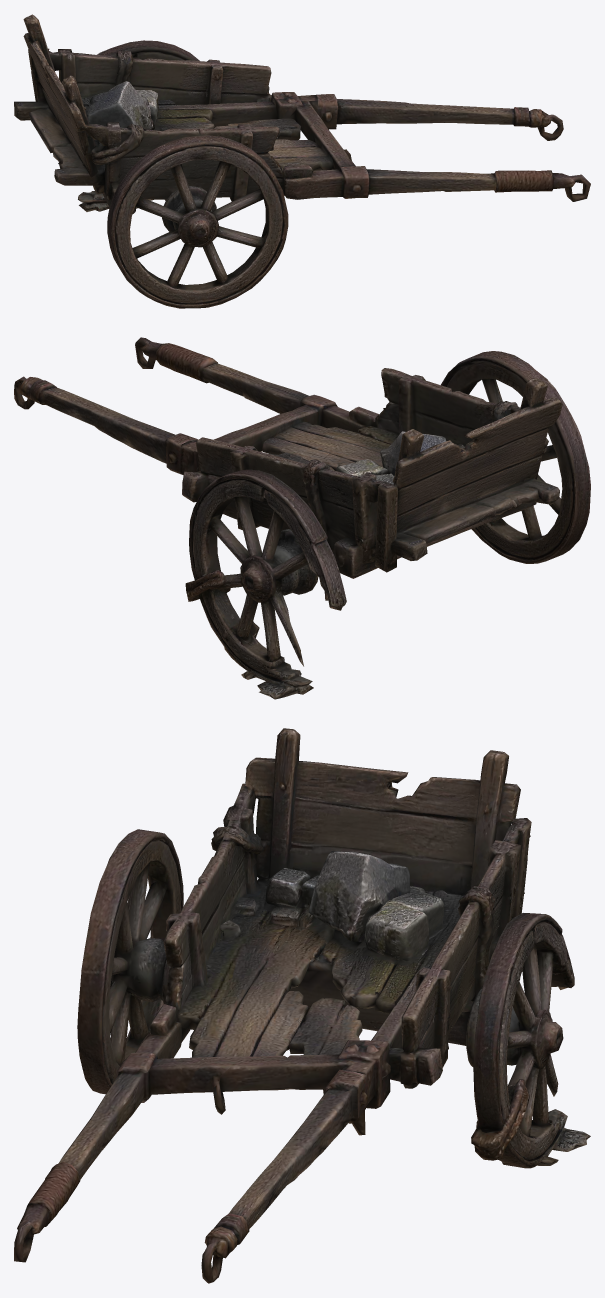
The model's file is broken-handcart.glb.
3 renders of one model, top to bottom at view 1: azimuth 30°, elevation 25°; view 2: azimuth 150°, elevation 25°; view 3: azimuth 270°, elevation 25°, orthographic. The views are drawn at different scales.
Parts seen in each view (by area): view 1: tripo_node_396214b1-44a0-49b8-9ddd-4580cb2011e9; view 2: tripo_node_396214b1-44a0-49b8-9ddd-4580cb2011e9; view 3: tripo_node_396214b1-44a0-49b8-9ddd-4580cb2011e9.
Part boxes in pixels (bbox=[...]): tripo_node_396214b1-44a0-49b8-9ddd-4580cb2011e9: bbox=[14, 14, 590, 308]; tripo_node_396214b1-44a0-49b8-9ddd-4580cb2011e9: bbox=[14, 337, 590, 699]; tripo_node_396214b1-44a0-49b8-9ddd-4580cb2011e9: bbox=[14, 728, 590, 1283].
Size of the model in its own units: 1 by 0.4406 by 0.7075.
Materials: 1 (1 with a texture image).
